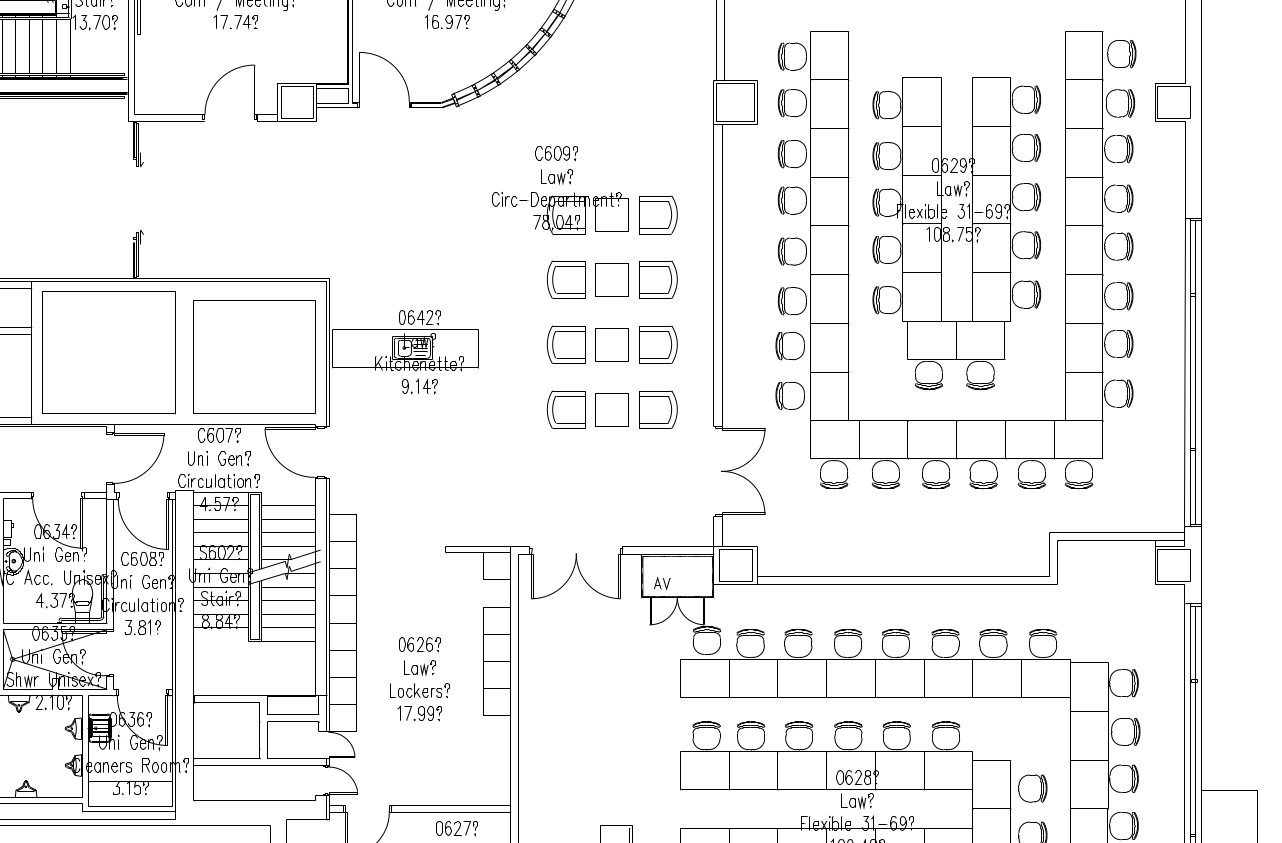door: (28, 487, 90, 553), (524, 542, 580, 613), (569, 541, 625, 612), (114, 685, 169, 754), (107, 428, 169, 488), (260, 425, 322, 485), (197, 59, 259, 119), (350, 50, 412, 110), (712, 421, 769, 472), (712, 470, 769, 521), (323, 730, 360, 763), (323, 766, 360, 799)
